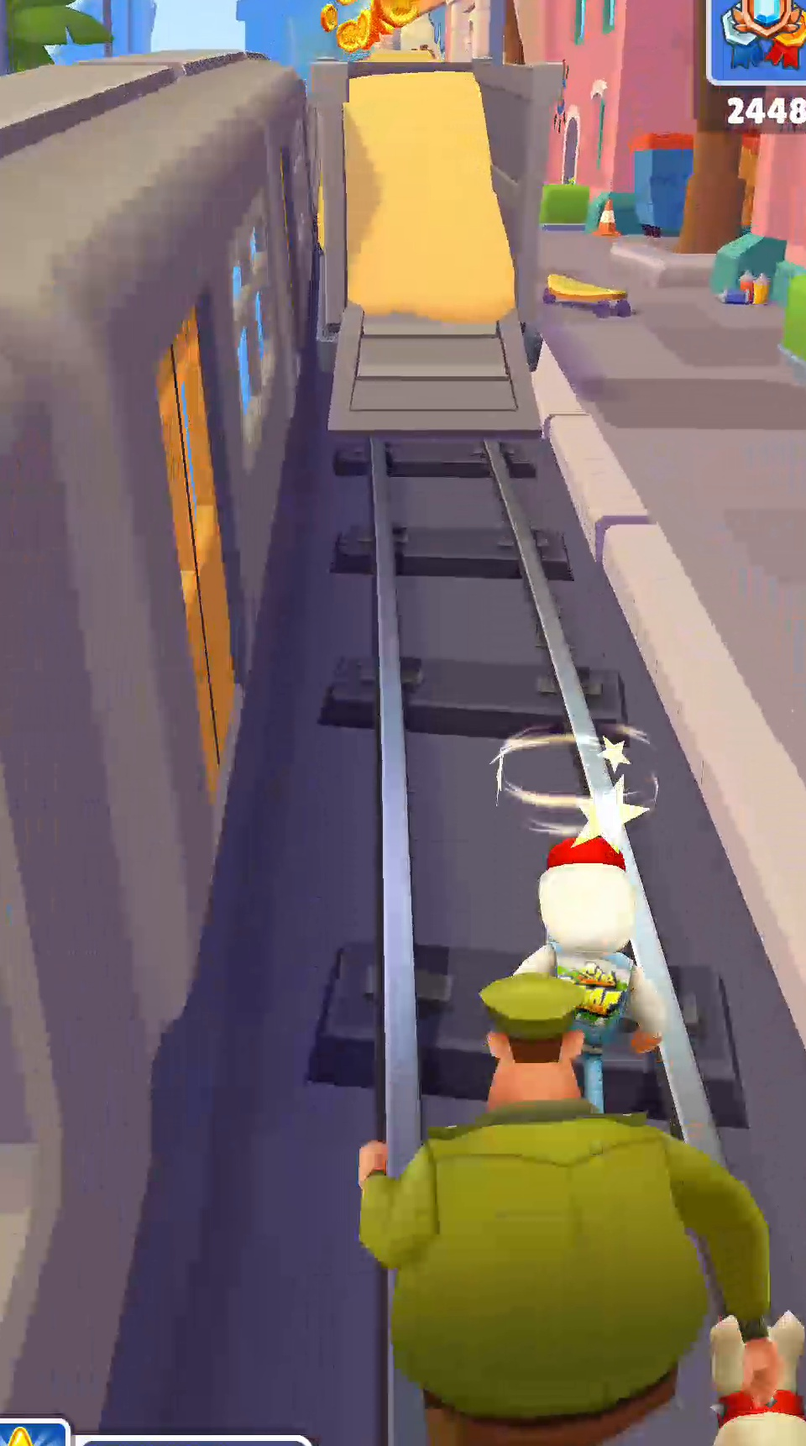climber: (344, 65, 526, 432)
police: (359, 969, 769, 1445)
train: (0, 52, 318, 1416)
